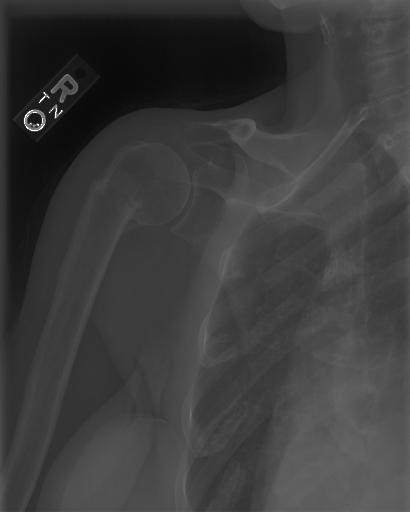shoulder fracture: (69, 160, 159, 247)
